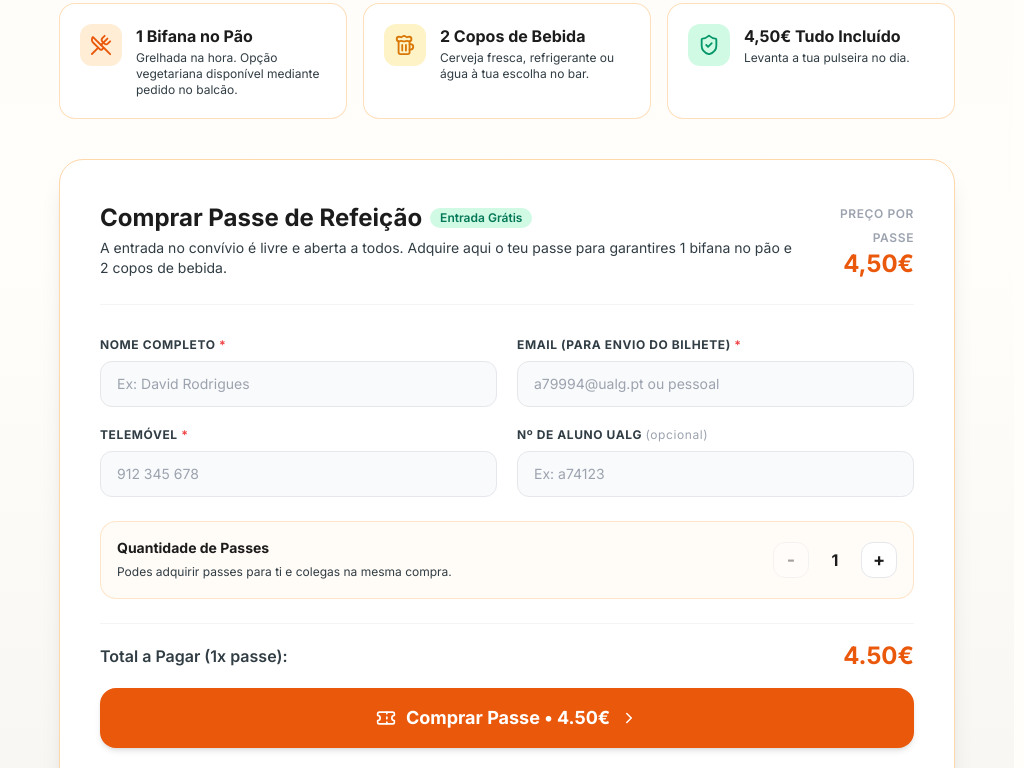
Scenario: Churrasco Page › permite preencher o formulário e selecionar a quantidade de passes
This screenshot has width=1024, height=768.
(page scrolled)
Type "João Silva" into the field with placeholder "Ex: David Rodrigues" at (298, 384), box [100,361,497,407]
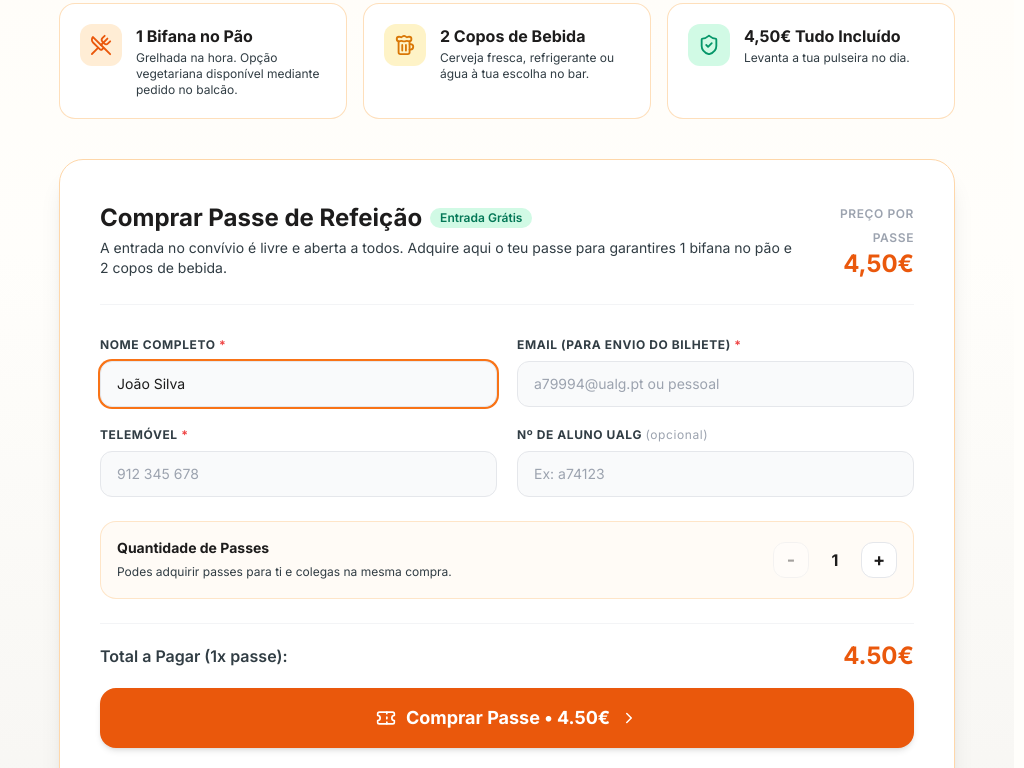
Type "joao@ualg.pt" into the field with placeholder "a79994@ualg.pt ou pessoal" at (716, 384), box [517,361,914,407]
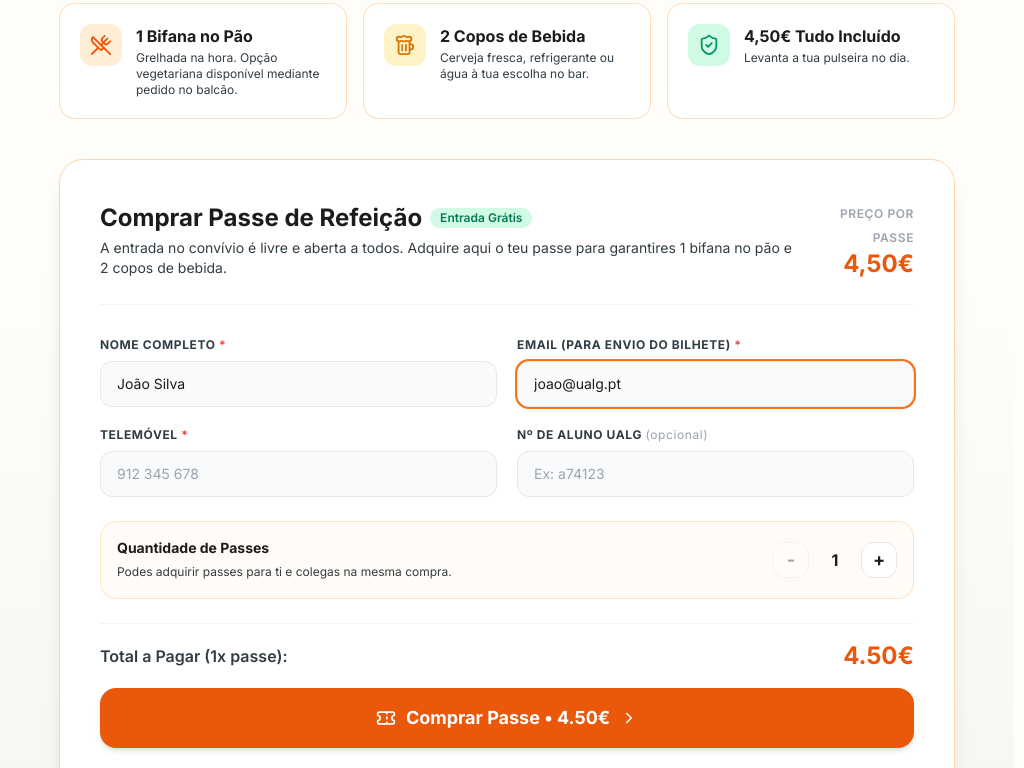
Type "912345678" into the field with placeholder "912 345 678" at (298, 474), box [100,451,497,497]
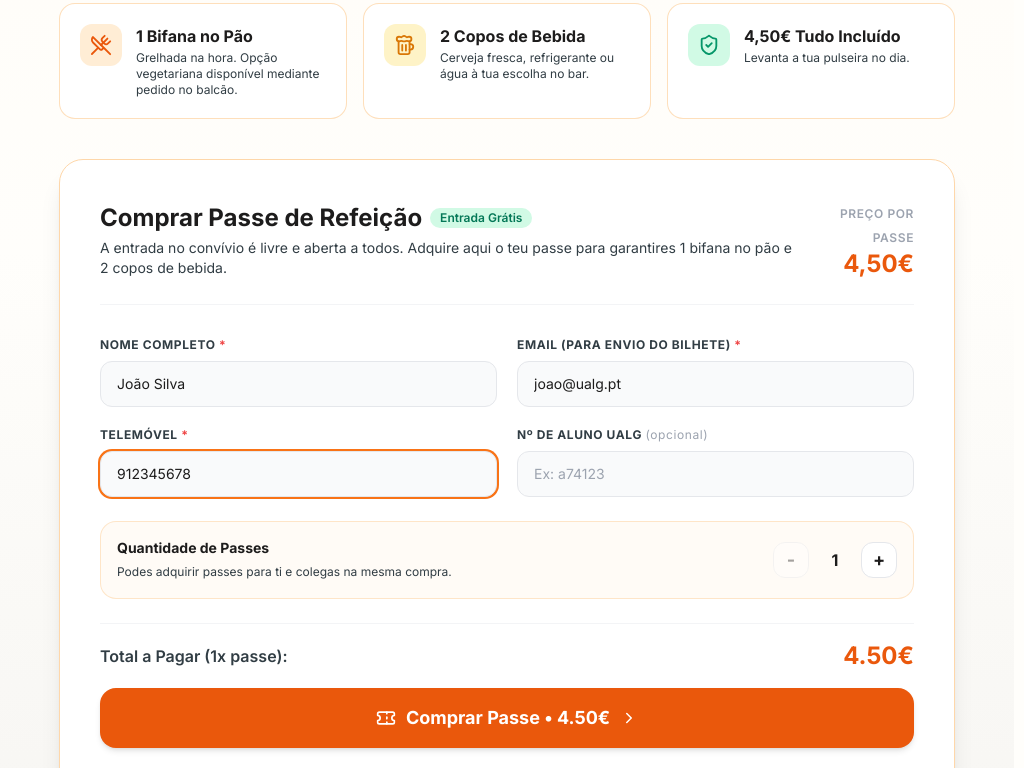
Aumenta quantidade para 2
Click the button "+" at (879, 560), box [861,542,897,578]
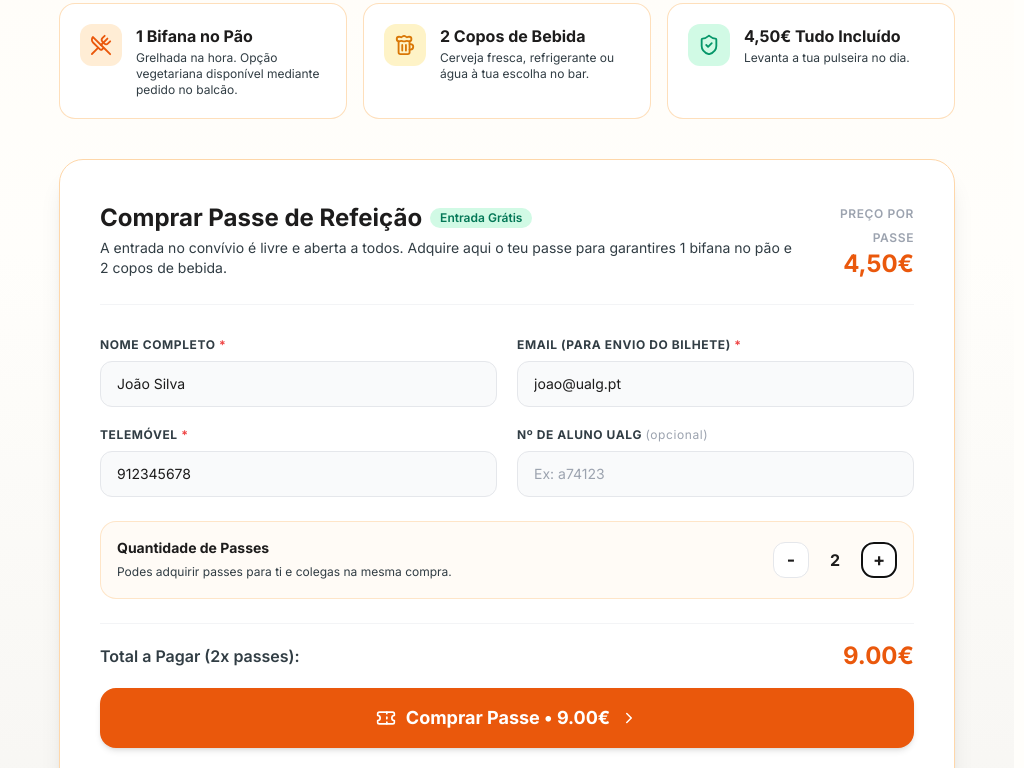
Now the text "Total a Pagar (2x passes):" is shown, box [100,644,300,668]
Now the text "9.00€" is shown, box [843,640,914,672]
